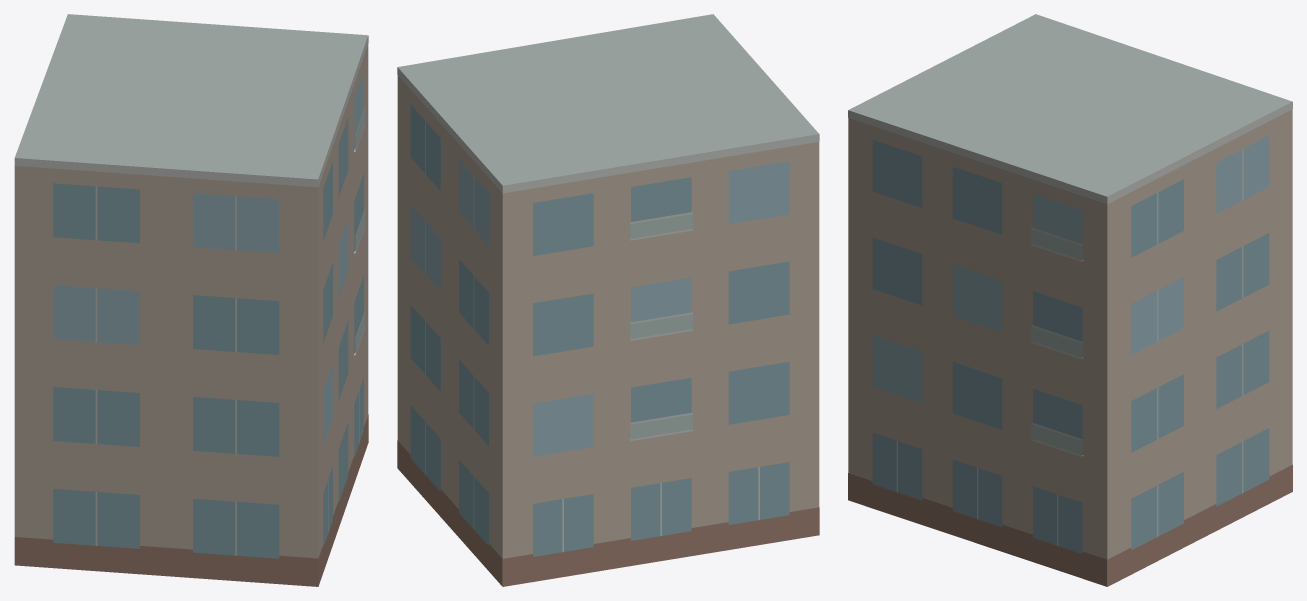
The model's file is survey-upis-32937014.glb.
The picture shows the model from 3 angles, left to right: view 1: azimuth 30°, elevation 25°; view 2: azimuth 150°, elevation 25°; view 3: azimuth 270°, elevation 25°; orthographic projection. The views are drawn at different scales.
Visible parts, largest first — view 1: survey-upis-32937014.tmp; view 2: survey-upis-32937014.tmp; view 3: survey-upis-32937014.tmp.
Part boxes in pixels (x1=…): survey-upis-32937014.tmp: x1=14, y1=14, x2=368, y2=586; survey-upis-32937014.tmp: x1=397, y1=14, x2=819, y2=586; survey-upis-32937014.tmp: x1=848, y1=14, x2=1292, y2=586.
Size of the model in its own units: 12.77 by 12.7 by 13.13.
